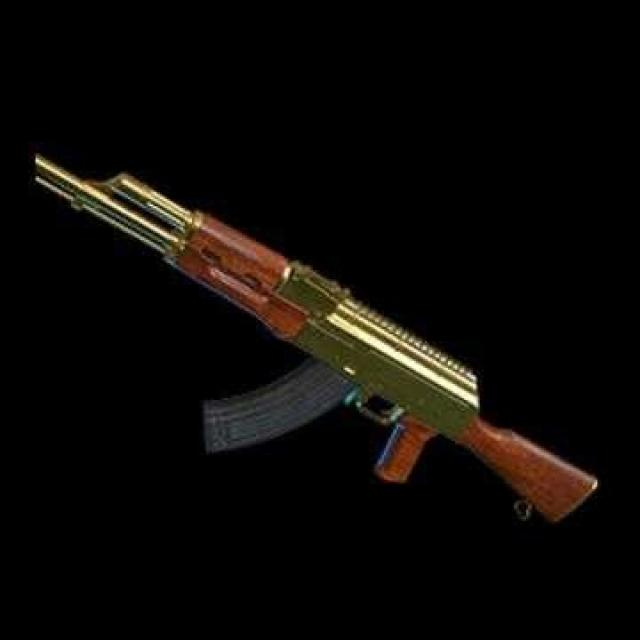heavyweapon: (15, 129, 613, 550)
